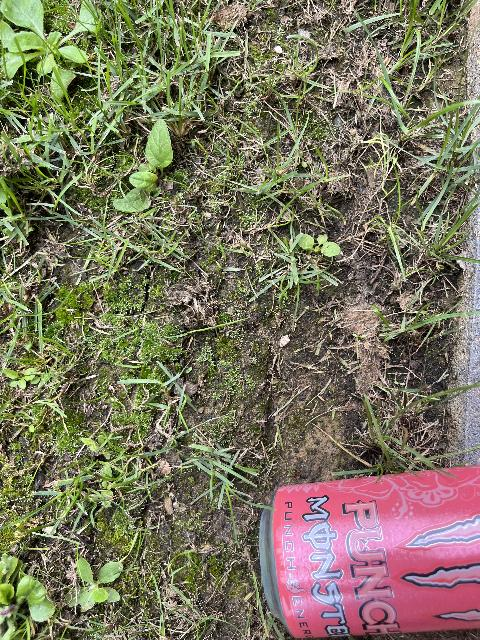can: (258, 463, 480, 640)
